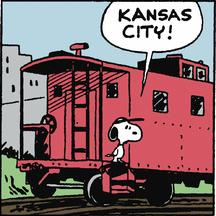snoopy: (104, 116, 144, 168)
